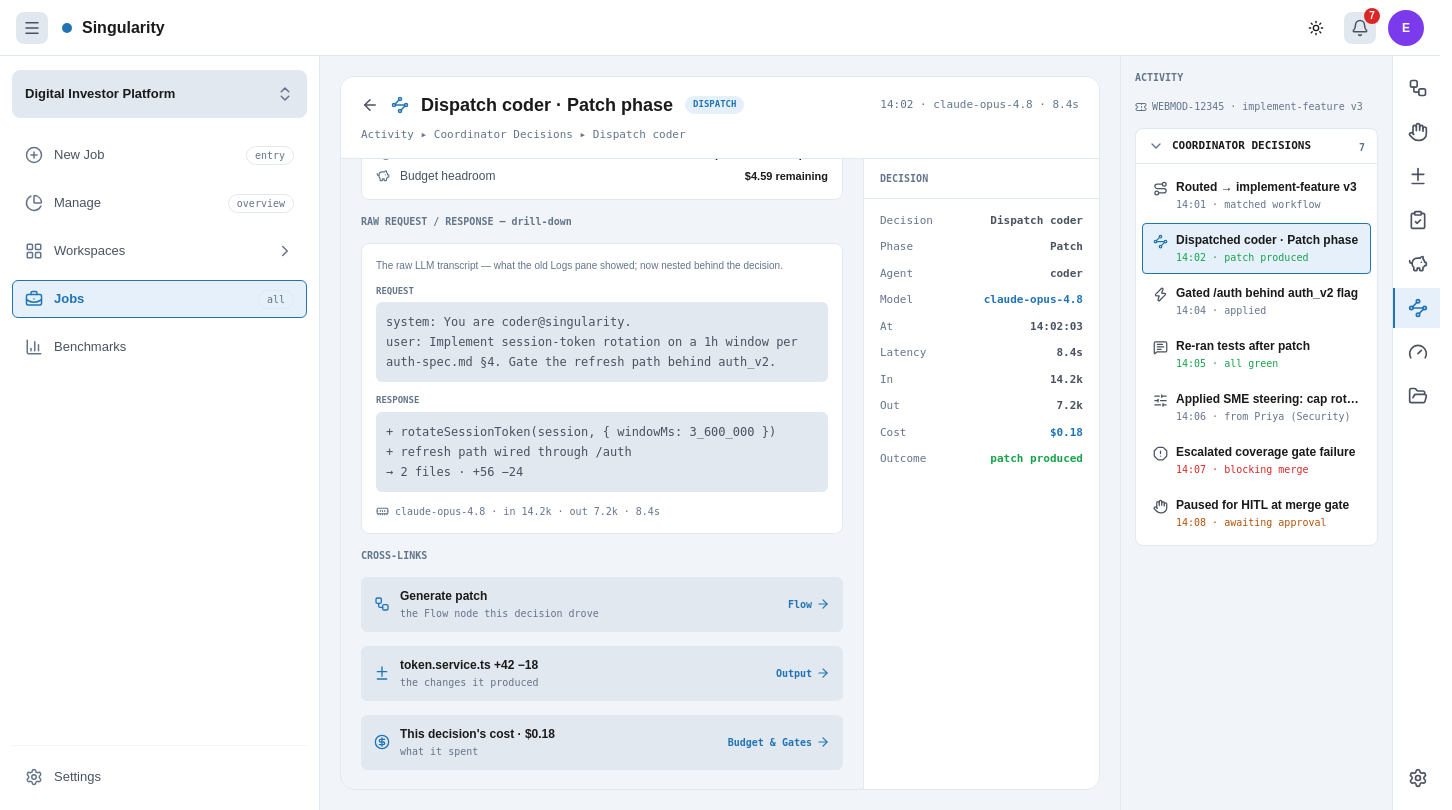
Test case: Activity section › cross-links to the flow node the decision drove
(page scrolled)
Expected: the heading "Dispatch coder · Patch phase" is shown, [421,91,673,119]
What coordinates should you click on to do the following:
click the link "Generate patch the Flow node this decision drove Flow"
I would click on:
 (444, 596)
Its box is [361,576,843,632].
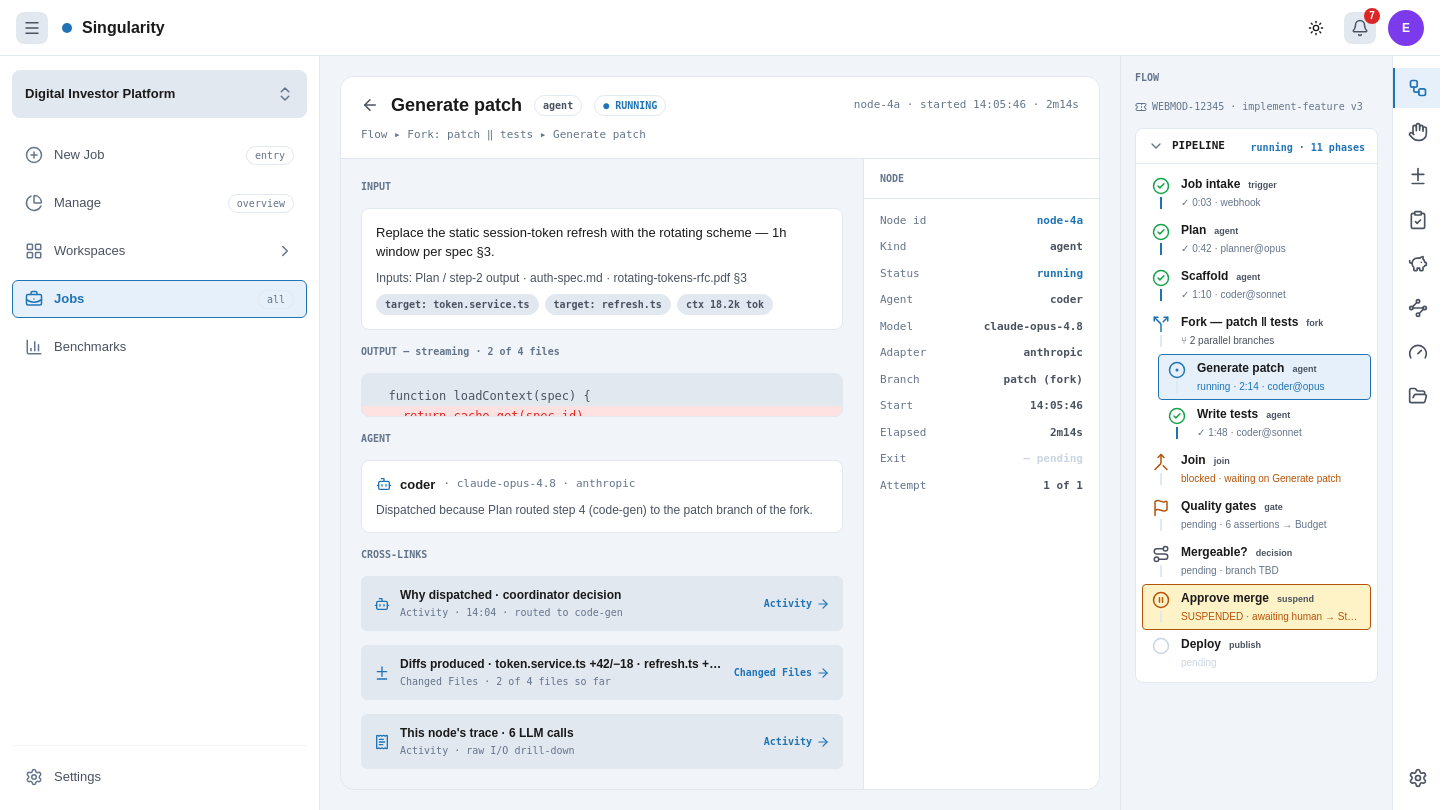
Expected: the text "Job intake" is shown, [1181,176,1240,192]
